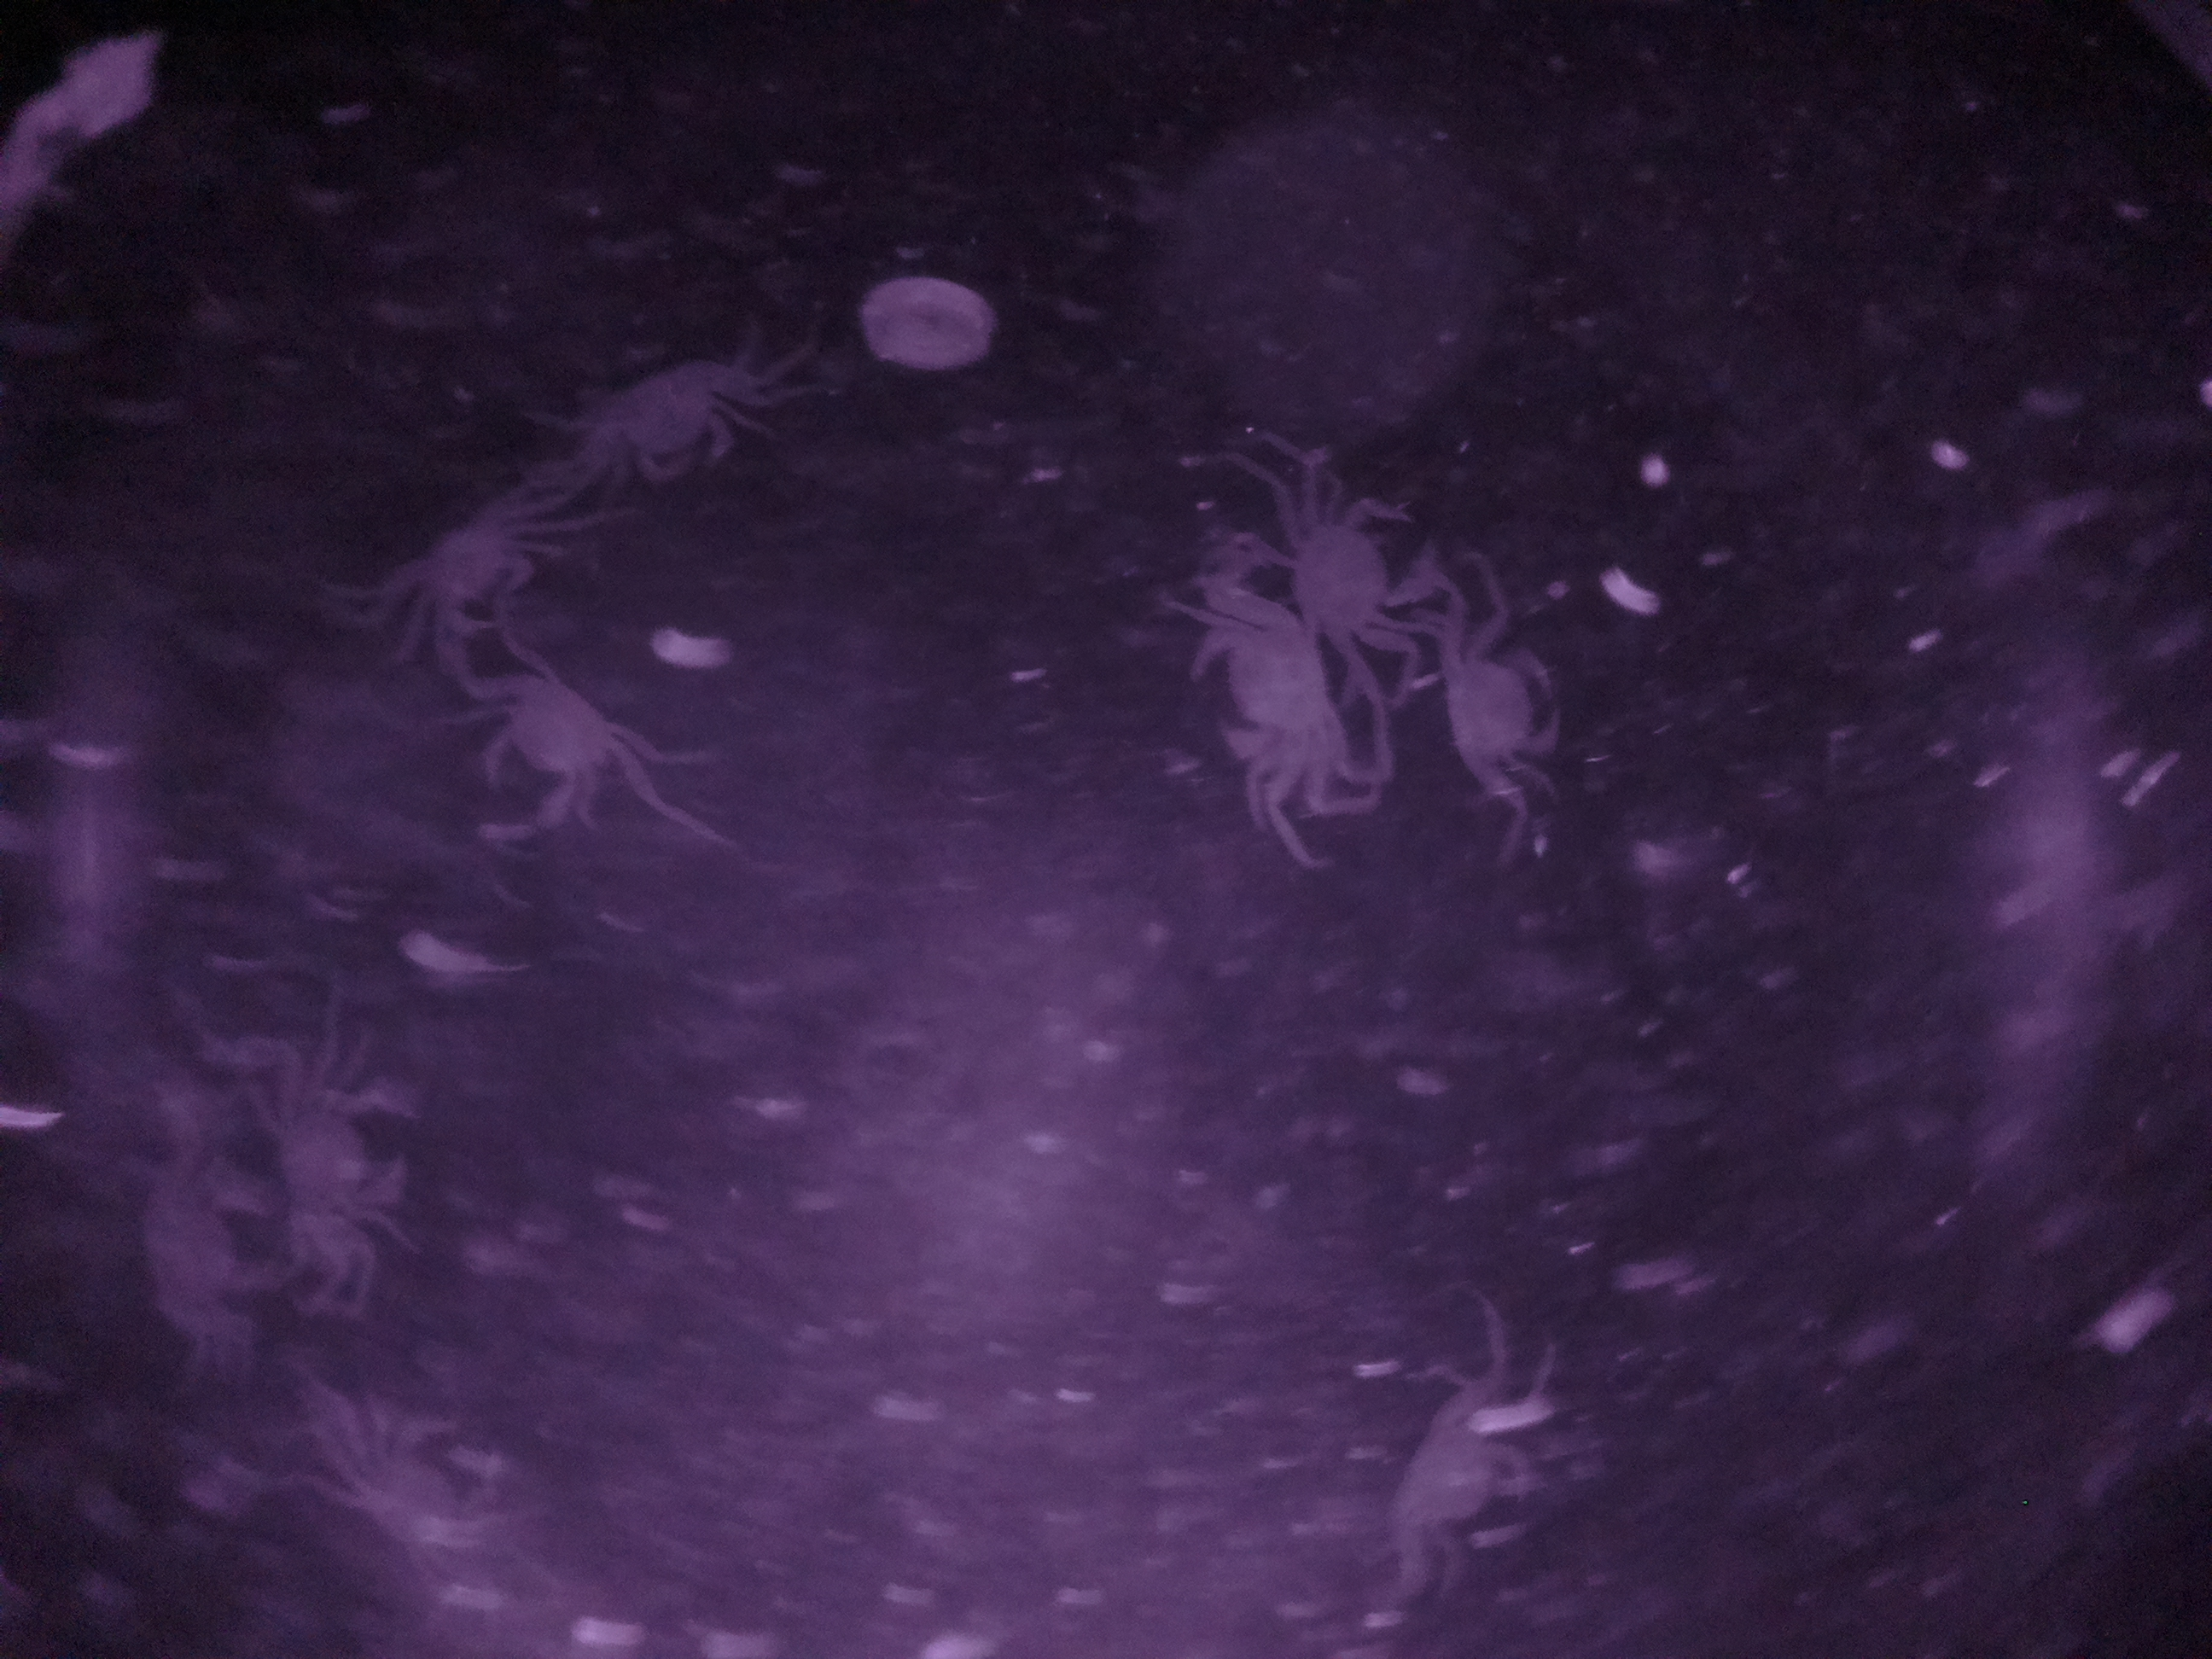Crab: (442, 640, 641, 863), (1251, 472, 1439, 681), (570, 338, 775, 500), (1430, 612, 1585, 805)
